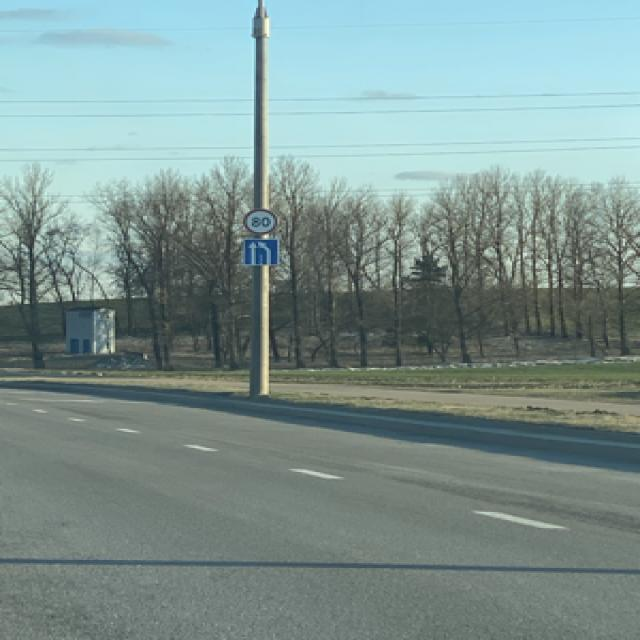speedlimit: (243, 208, 275, 235)
